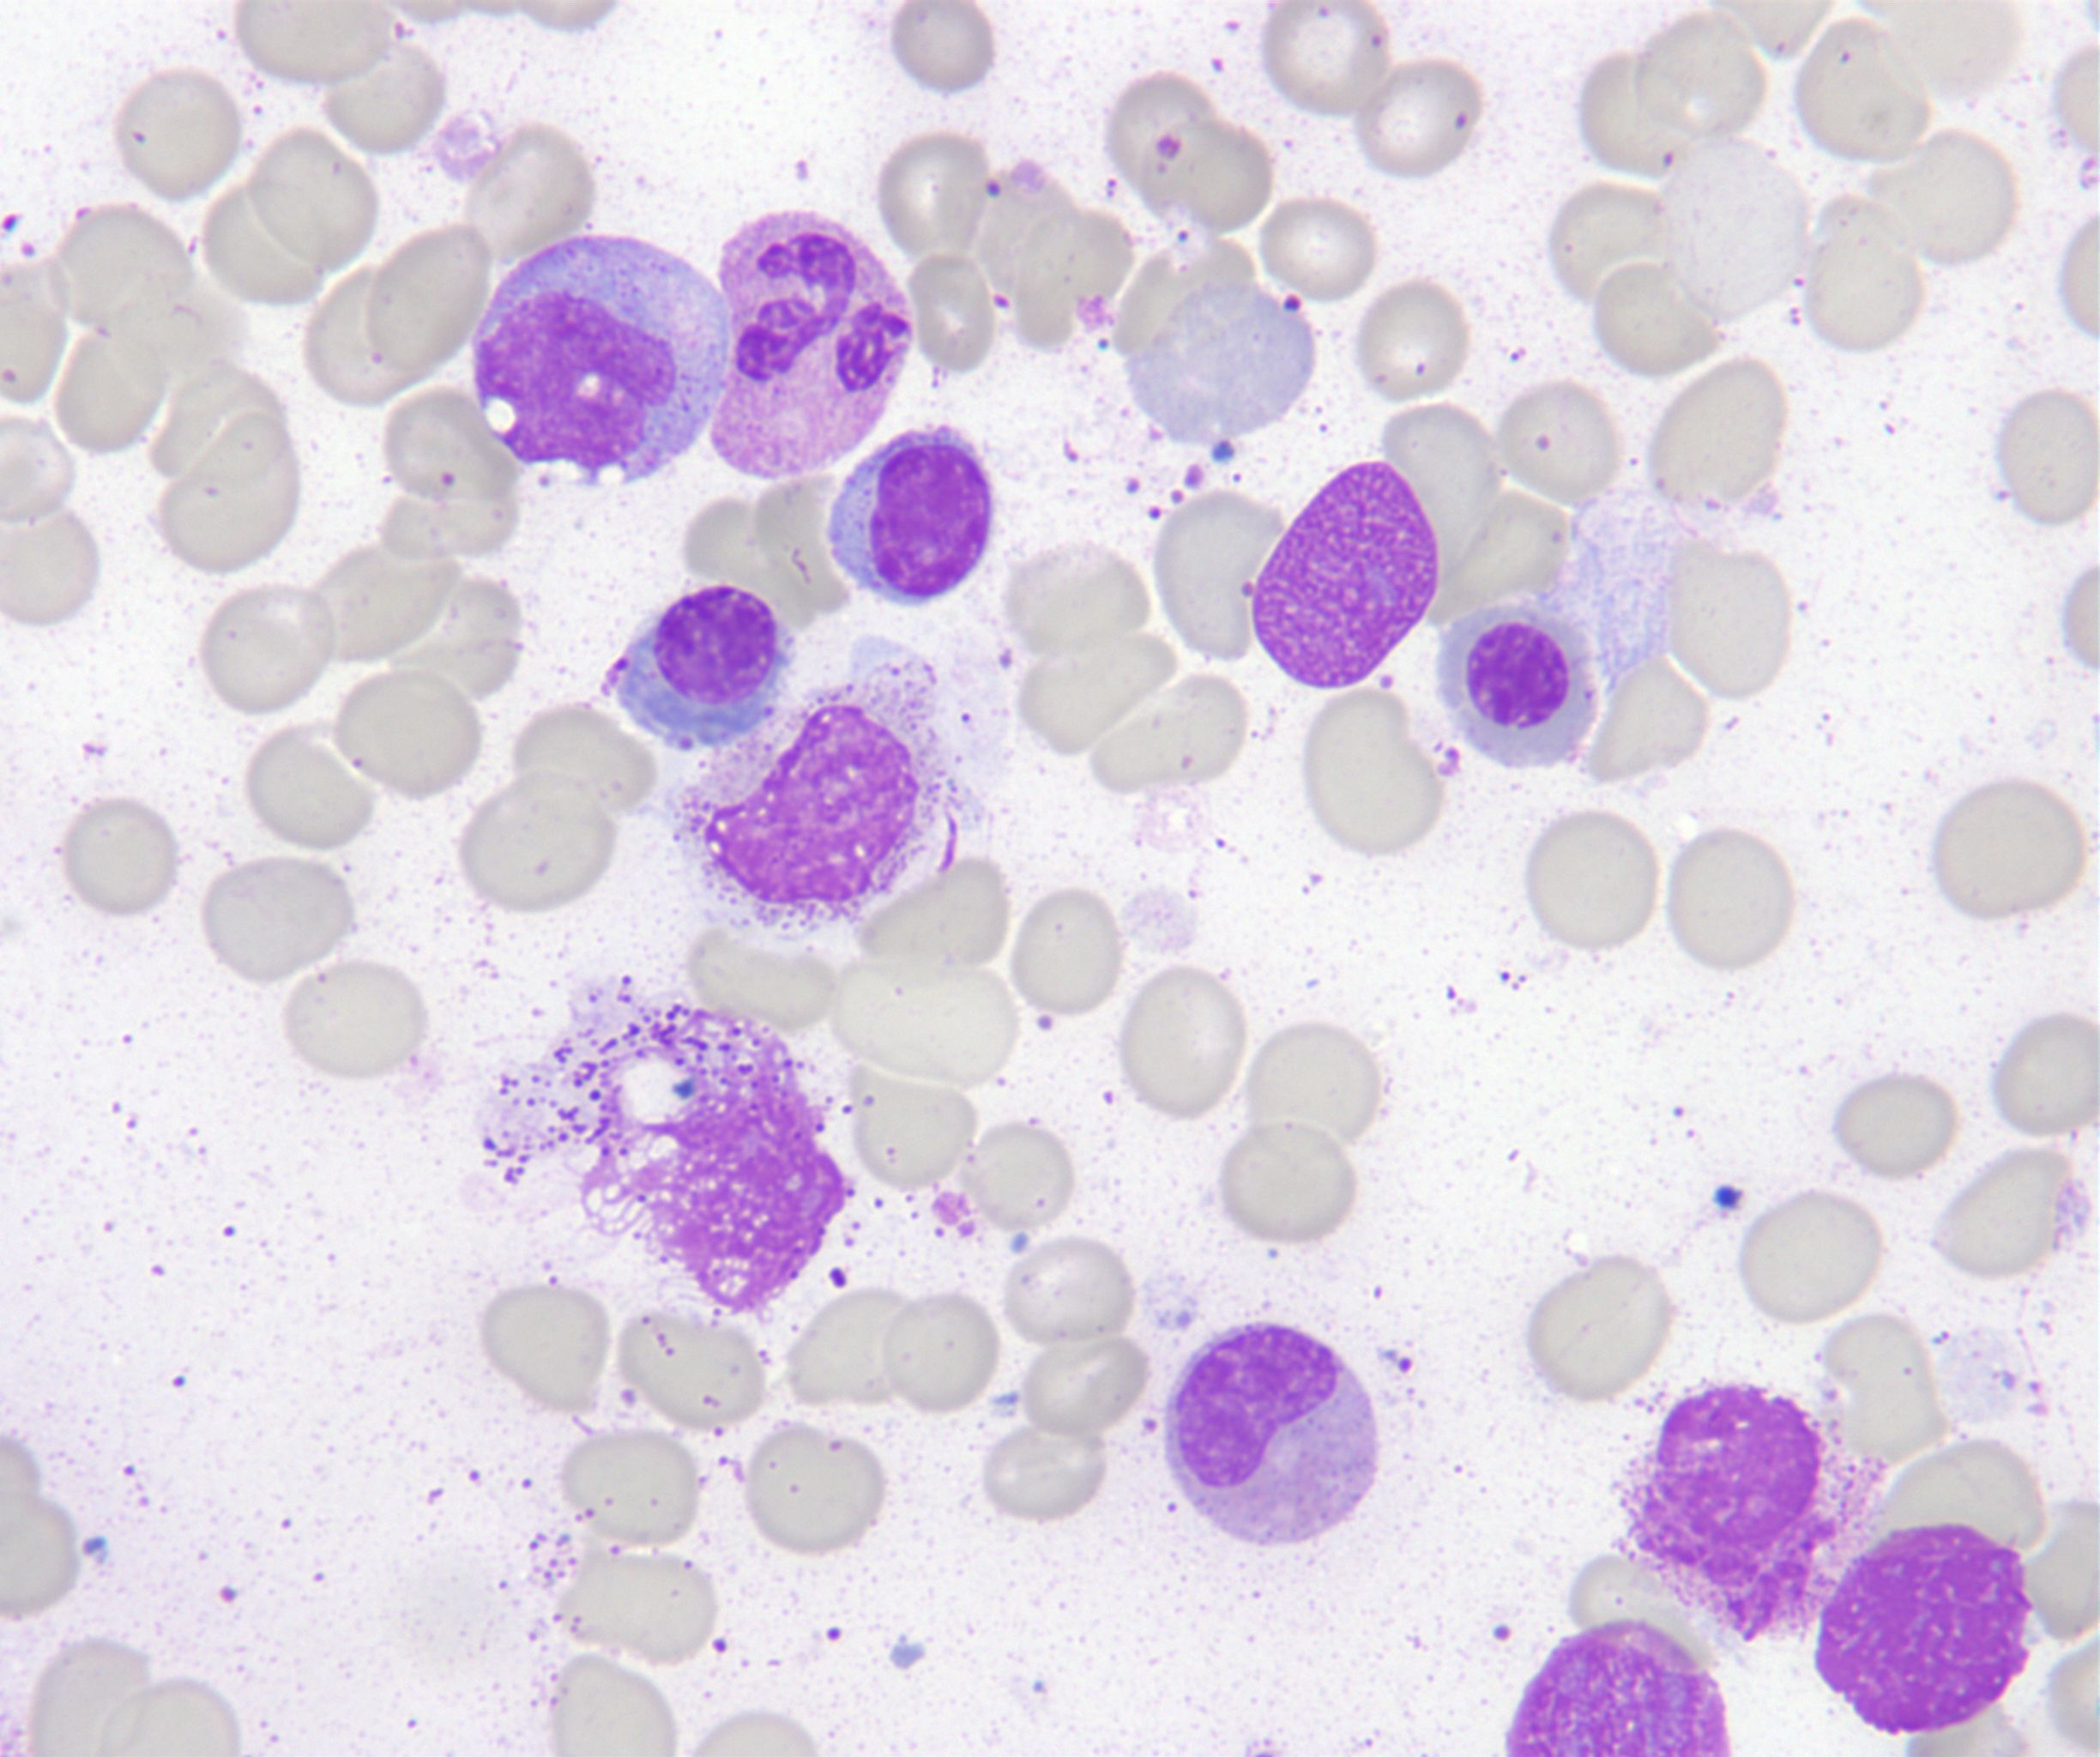23: (619, 586, 788, 745)
24: (1439, 607, 1596, 773)
3: (473, 237, 729, 487)
32: (827, 420, 991, 605)
4: (1165, 1326, 1376, 1544)
6: (710, 211, 912, 478)
x: (485, 989, 844, 1316), (675, 665, 963, 935), (1615, 1382, 1885, 1640), (1816, 1528, 2032, 1734), (1252, 461, 1437, 689), (1510, 1623, 1732, 1757)
